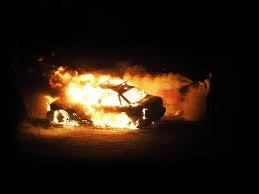fire: (42, 65, 144, 131)
